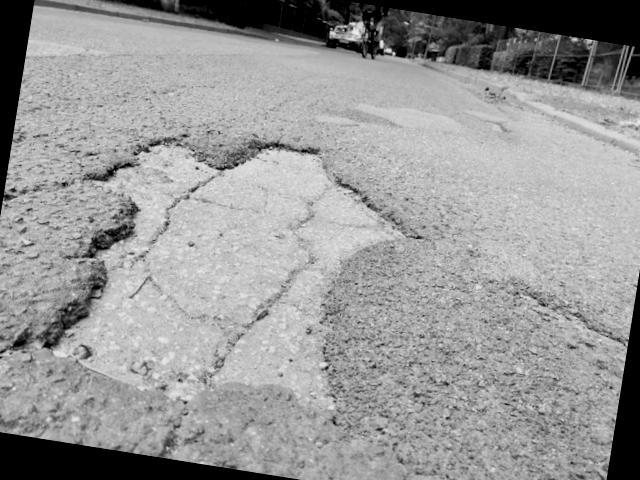Pothole: (49, 84, 438, 452)
